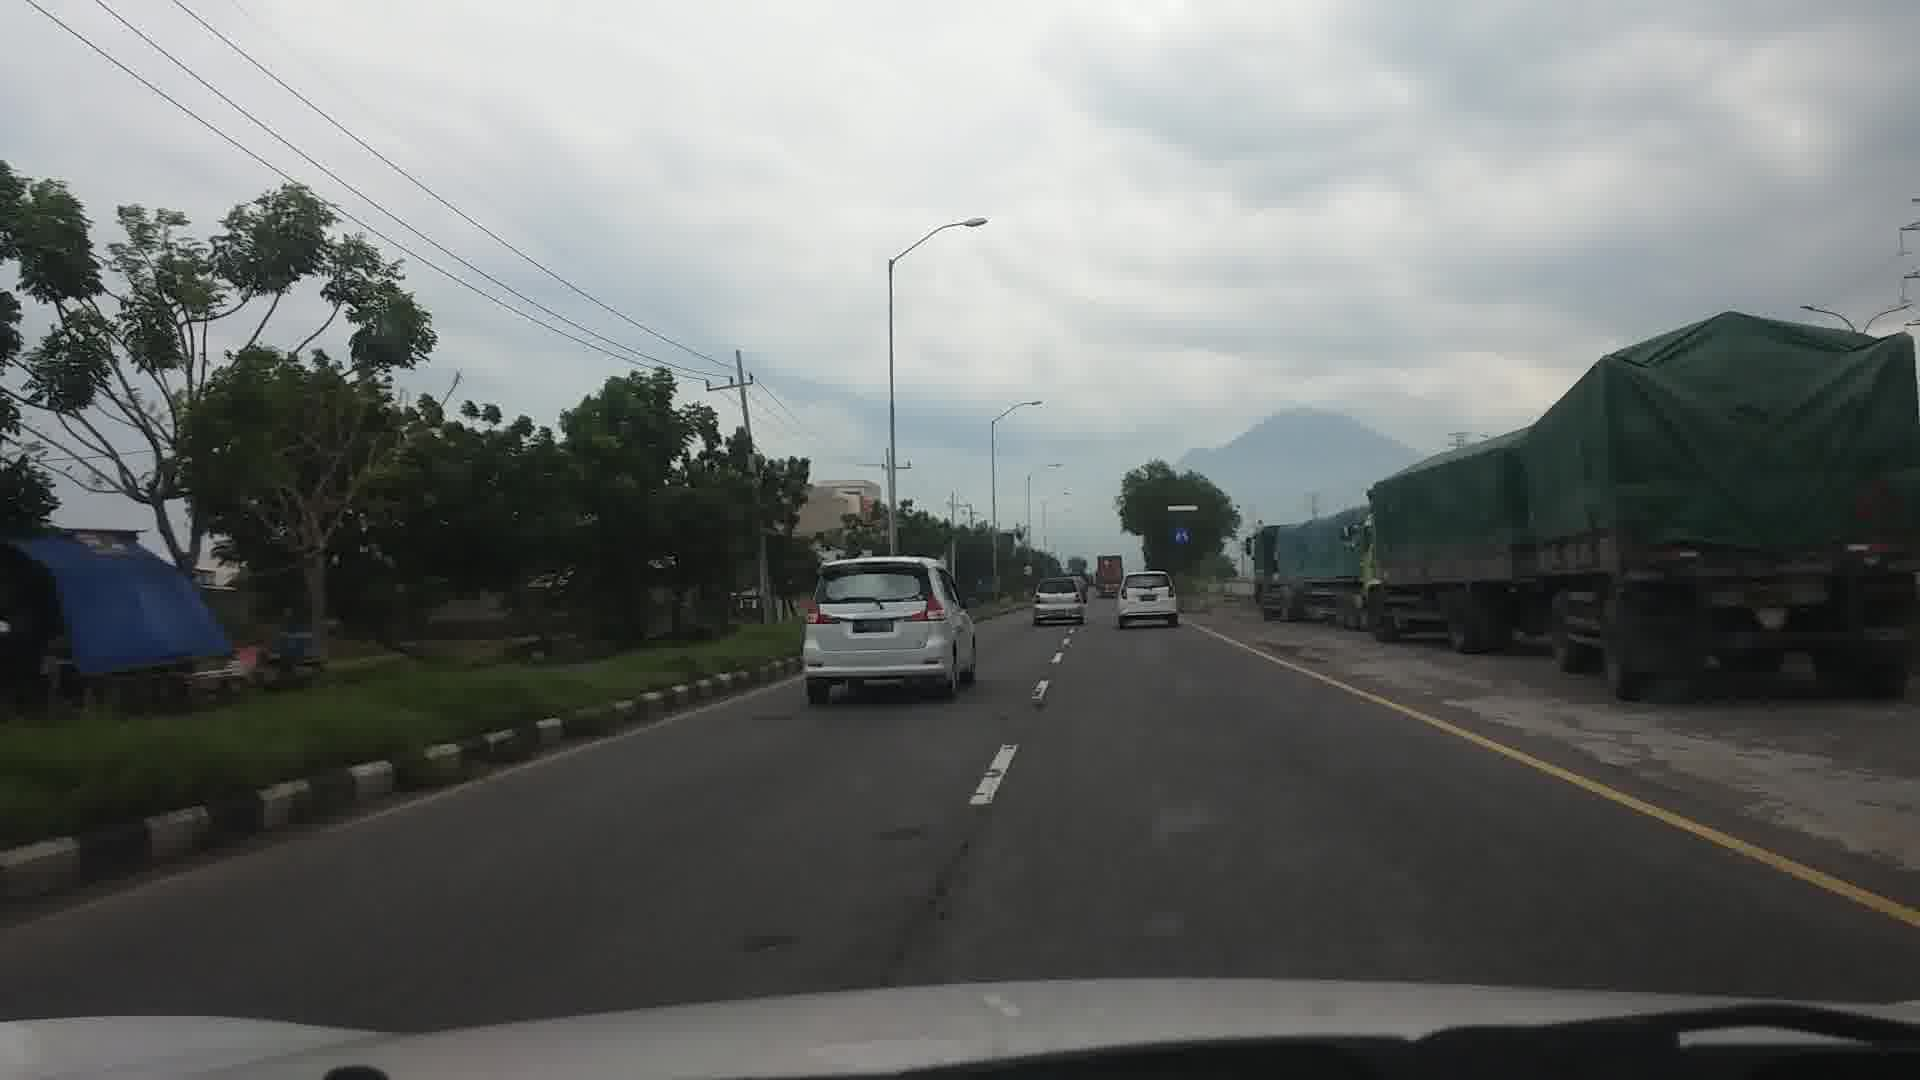plate_positive: (852, 620, 894, 632)
